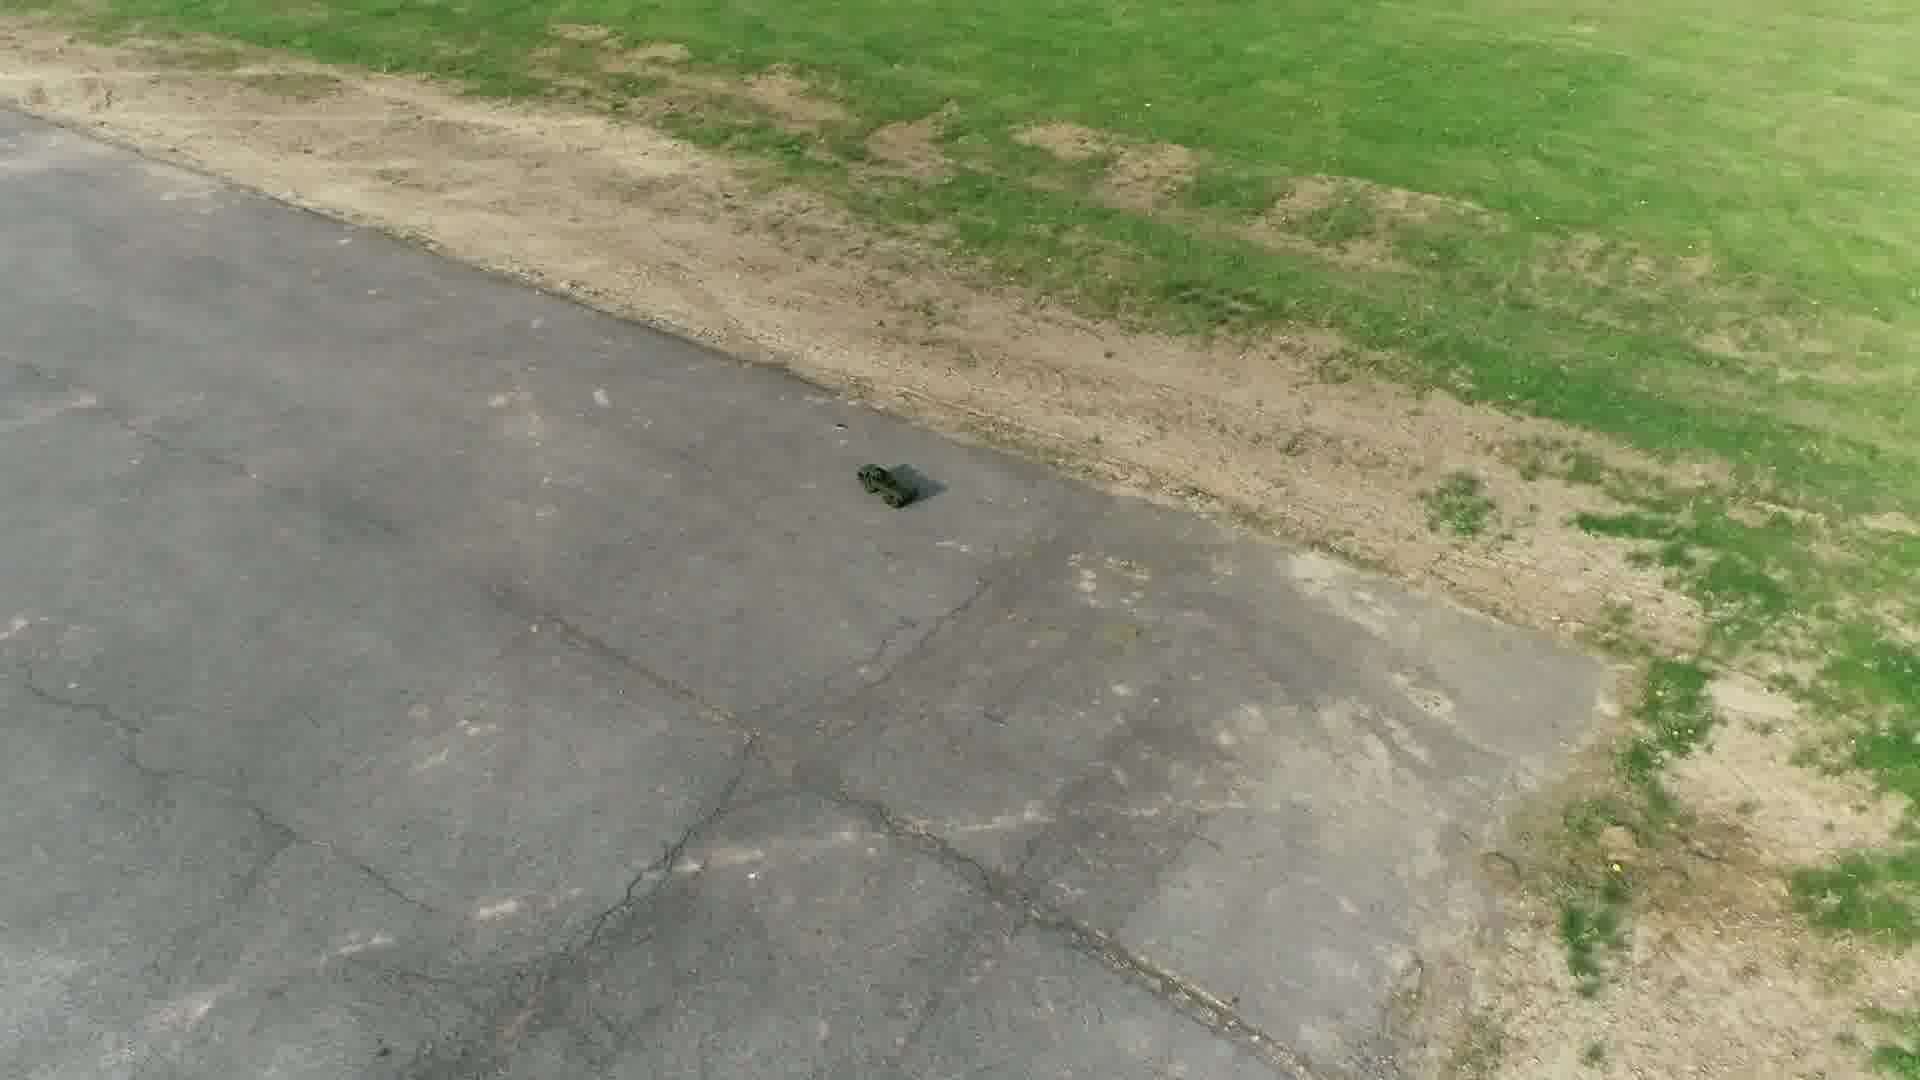transporter9: (853, 462, 923, 512)
